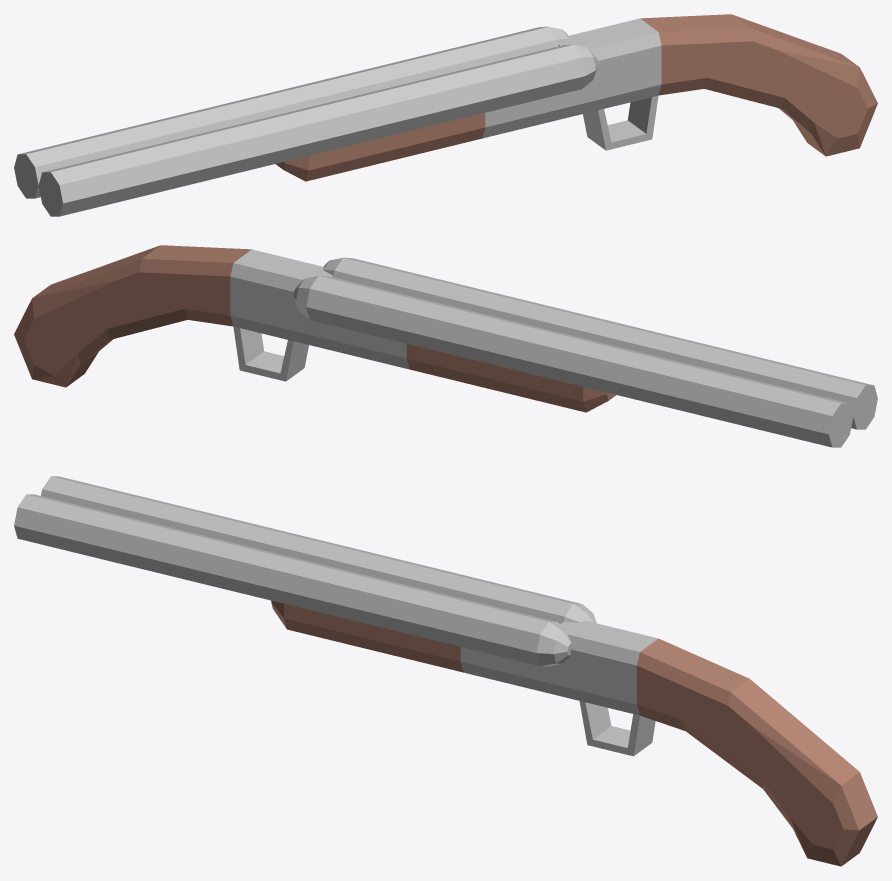
Rendered from DBShotgun.fbx.
The picture shows the model from 3 angles, top to bottom: view 1: azimuth 30°, elevation 25°; view 2: azimuth 150°, elevation 25°; view 3: azimuth 330°, elevation 25°; orthographic projection.
Parts seen in each view (by area): view 1: Barrels, Gun; view 2: Barrels, Gun; view 3: Barrels, Gun.
Boxes of the visible parts, left/top/right/bottom form: Barrels: left=14, top=26, right=585, bottom=216; Gun: left=482, top=14, right=877, bottom=156; Barrels: left=306, top=257, right=877, bottom=447; Gun: left=14, top=245, right=409, bottom=387; Barrels: left=14, top=476, right=580, bottom=672; Gun: left=460, top=604, right=877, bottom=866.
Bounding box in the file's own units: 0.5739 × 0.1165 × 0.0589.
